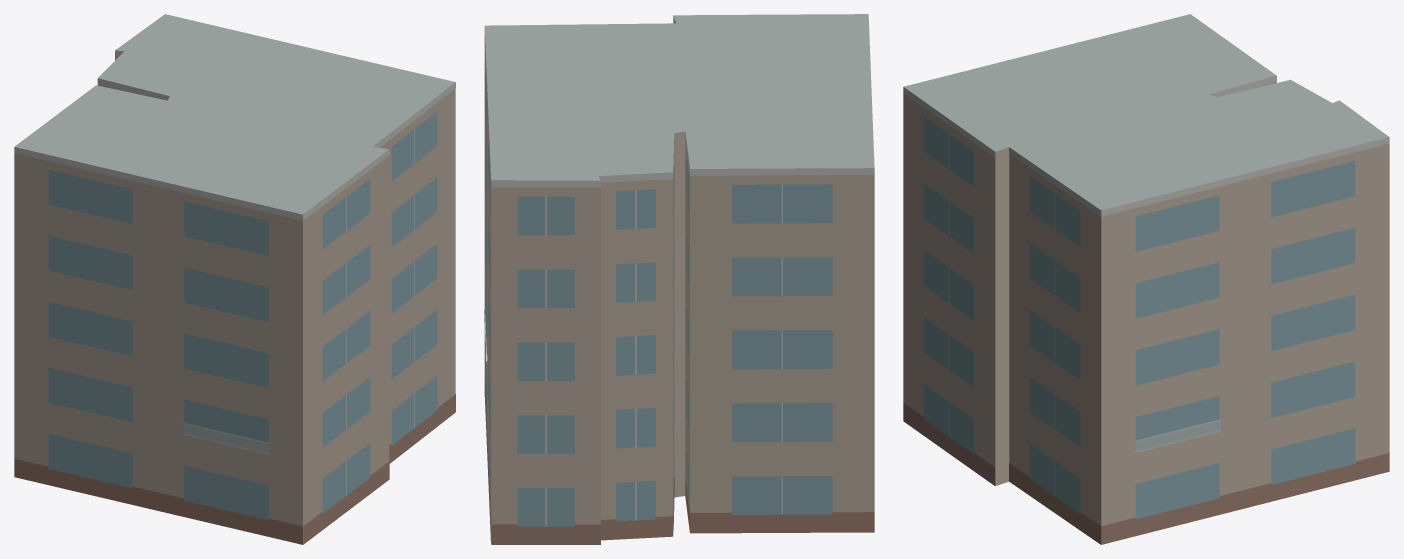
Rendered from survey-upis-33017540.glb.
3 renders of one model, left to right at view 1: azimuth 30°, elevation 25°; view 2: azimuth 150°, elevation 25°; view 3: azimuth 270°, elevation 25°, orthographic. The views are drawn at different scales.
Visible parts, largest first — view 1: survey-upis-33017540.tmp; view 2: survey-upis-33017540.tmp; view 3: survey-upis-33017540.tmp.
Boxes of the visible parts, left/top/right/bottom form: survey-upis-33017540.tmp: left=14, top=14, right=455, bottom=544; survey-upis-33017540.tmp: left=484, top=14, right=874, bottom=544; survey-upis-33017540.tmp: left=903, top=14, right=1389, bottom=544.
Bounding box in the file's own units: 16.32 × 12.95 × 17.07.
